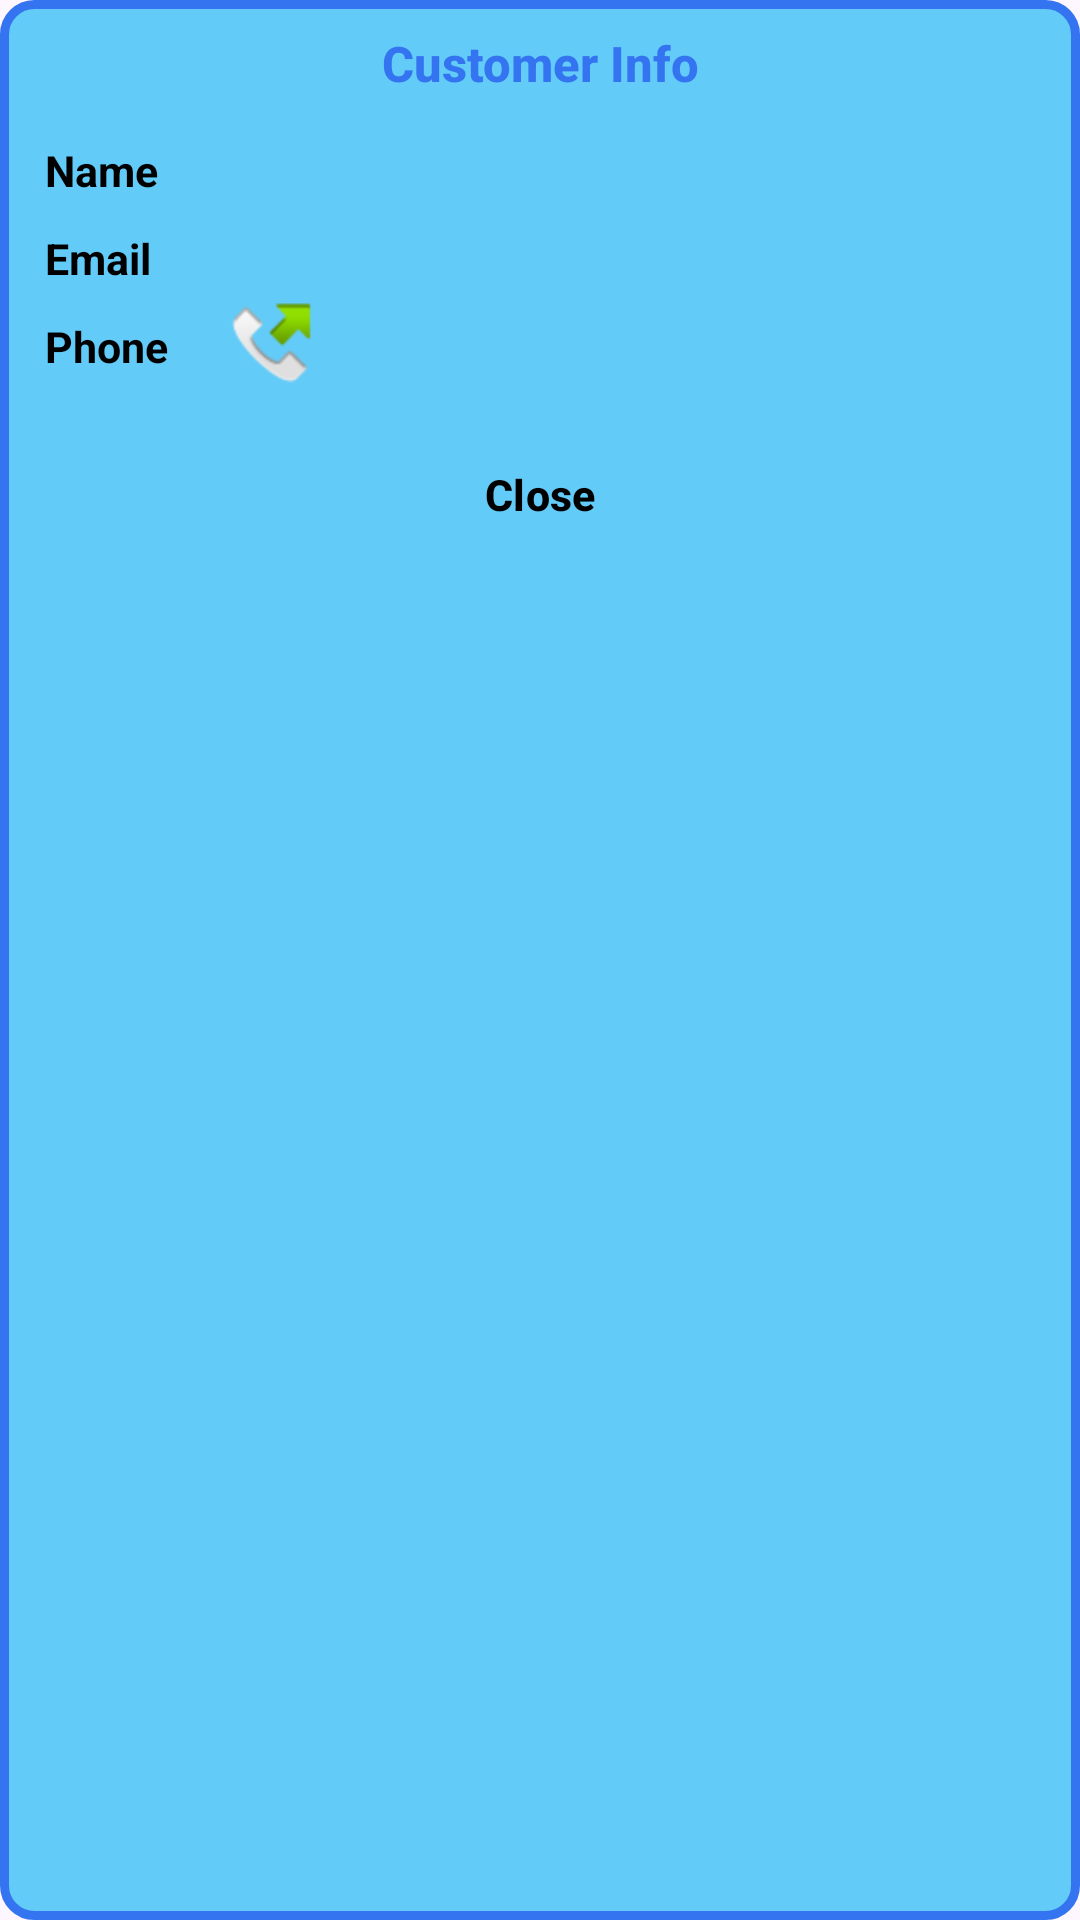

Screen size 1080 x 1920. Icon name, then its box in pixels as (x1, y1, x2, y2):
sym call outgoing: (232, 303, 311, 382)
